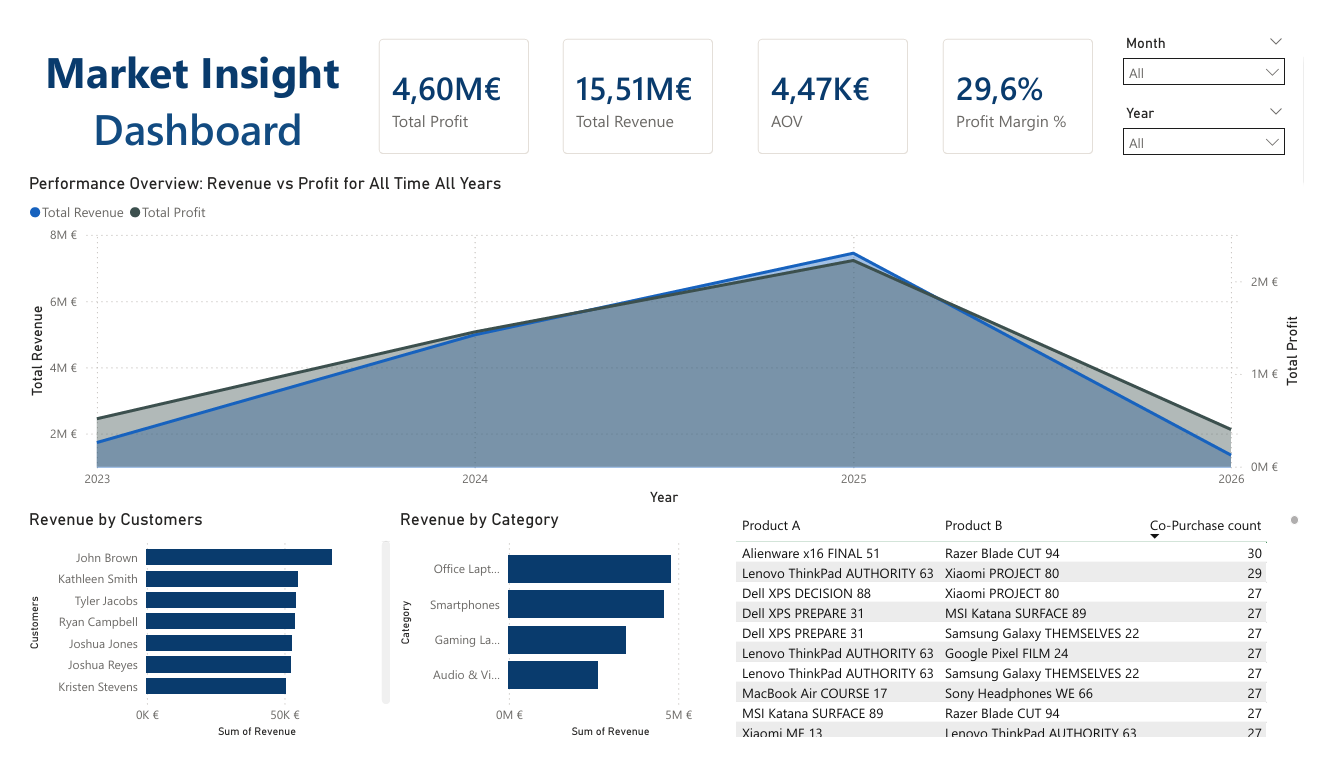

The page's visual inventory and layout, read from the dashboard file:
{"tool":"powerbi","page":{"name":"Page 1","canvas":[1280,720],"ordinal":0},"visuals":[{"type":"cardVisual","fields":{"Data":["Key Measures.AOV"]},"box":[716.8,0,184.8,149.8],"z":0},{"type":"cardVisual","fields":{"Data":["Key Measures.Return Rate %"]},"box":[901.6,0,184.8,149.8],"z":1000},{"type":"cardVisual","fields":{"Data":["Key Measures.Total Profit"]},"box":[337.5,0,184.8,149.8],"z":2000},{"type":"cardVisual","fields":{"Data":["Key Measures.Total Revenue"]},"box":[522.3,0,184.8,149.8],"z":3000},{"type":"areaChart","fields":{"Category":["Calendar.Date.Variation.Date Hierarchy.Year","Calendar.Date.Variation.Date Hierarchy.Quarter","Calendar.Date.Variation.Date Hierarchy.Month","Calendar.Date.Variation.Date Hierarchy.Day"],"Y":["Key Measures.Total Revenue"],"Y2":["Key Measures.Total Profit"]},"box":[0,150.8,1280,337.5],"z":4000},{"type":"clusteredBarChart","title":"Revenue by Category","fields":{"Category":["sales_details.Category"],"Y":["sales_details.Revenue"]},"box":[370.6,487.3,336.5,232.5],"z":5000},{"type":"slicer","fields":{"Values":["Calendar.Month"]},"box":[1089.4,7.8,181.9,67.1],"z":6000},{"type":"slicer","fields":{"Values":["Calendar.Year"]},"box":[1089.4,77.8,181.9,62.2],"z":7000},{"type":"clusteredBarChart","title":"Revenue by Customers","fields":{"Category":["sales_details.Customers"],"Y":["sales_details.Revenue"]},"box":[0,487.3,370.6,232.5],"z":8000},{"type":"tableEx","fields":{"Values":["market_basket.Product A","market_basket.Product B","market_basket.Co-Purchase count"]},"box":[707.1,488.3,572.9,231.5],"z":9000},{"type":"textbox","box":[0,14.6,348.2,125.5],"z":9001}]}

Visuals, with their boxes in screenshot pixels (x1, y1, x2, y2), scaled from the page's 1280x720 canvas onto the 1326x765 screenshot:
cardVisual - Key Measures.AOV: bbox=[743, 0, 934, 159]
cardVisual - Key Measures.Return Rate %: bbox=[934, 0, 1125, 159]
cardVisual - Key Measures.Total Profit: bbox=[350, 0, 541, 159]
cardVisual - Key Measures.Total Revenue: bbox=[541, 0, 733, 159]
areaChart - Calendar.Date.Variation.Date Hierarchy.Year x Calendar.Date.Variation.Date Hierarchy.Quarter: bbox=[0, 160, 1325, 519]
"Revenue by Category" clusteredBarChart: bbox=[384, 518, 733, 764]
slicer - Calendar.Month: bbox=[1129, 8, 1317, 80]
slicer - Calendar.Year: bbox=[1129, 83, 1317, 149]
"Revenue by Customers" clusteredBarChart: bbox=[0, 518, 384, 764]
tableEx - market_basket.Product A x market_basket.Product B: bbox=[733, 519, 1325, 764]
textbox: bbox=[0, 16, 361, 149]
